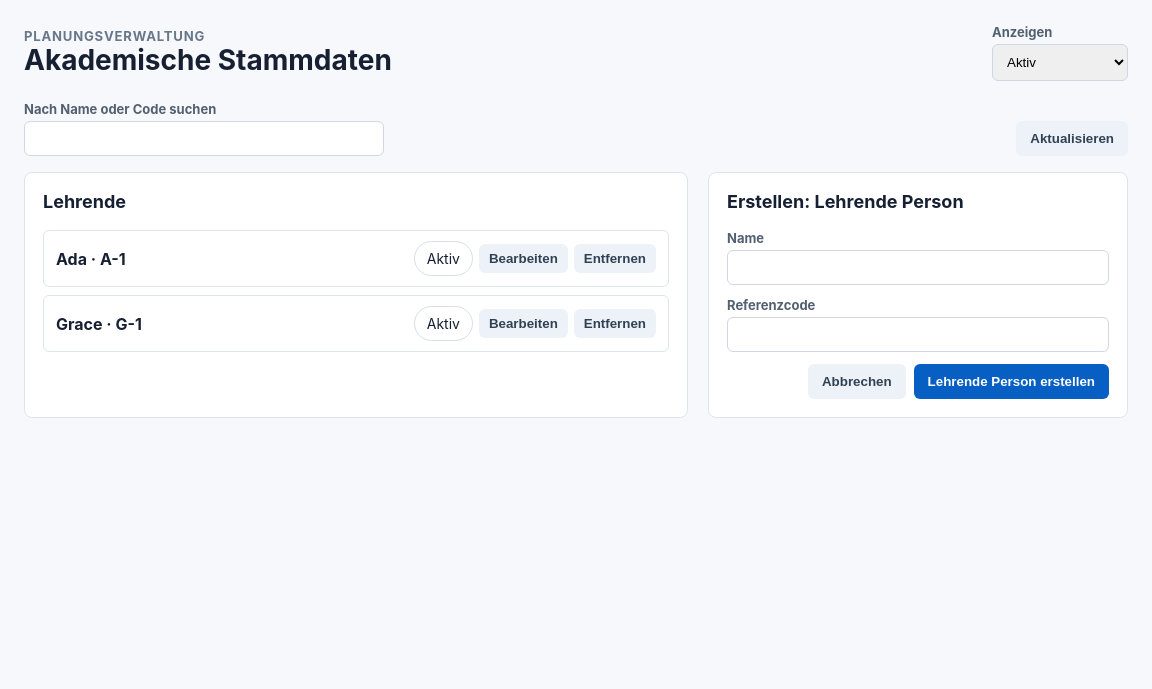
Test: AcademicDataPage › ignores an older availability response after returning to the same resource
The image size is (1152, 689).
Click the button "Bearbeiten" in the row of "Ada".
click(523, 258)  # box top-left (479, 244), bottom-right (568, 273)
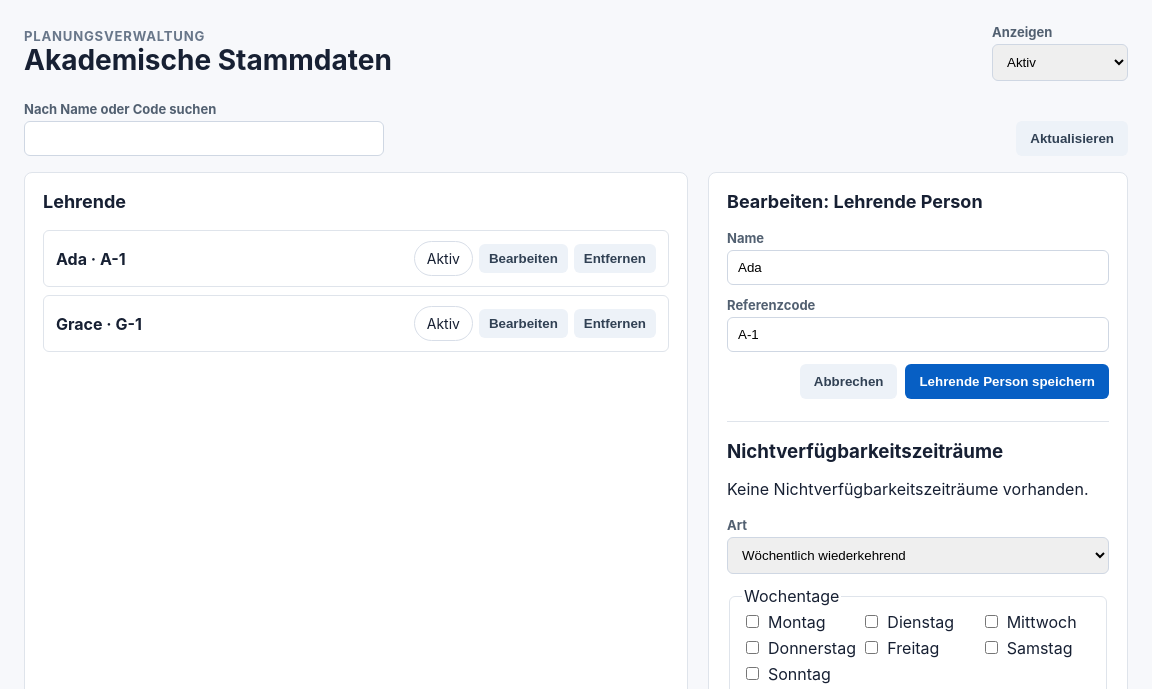
Click the button "Bearbeiten" in the row of "Grace".
click(523, 324)  # box top-left (479, 309), bottom-right (568, 338)
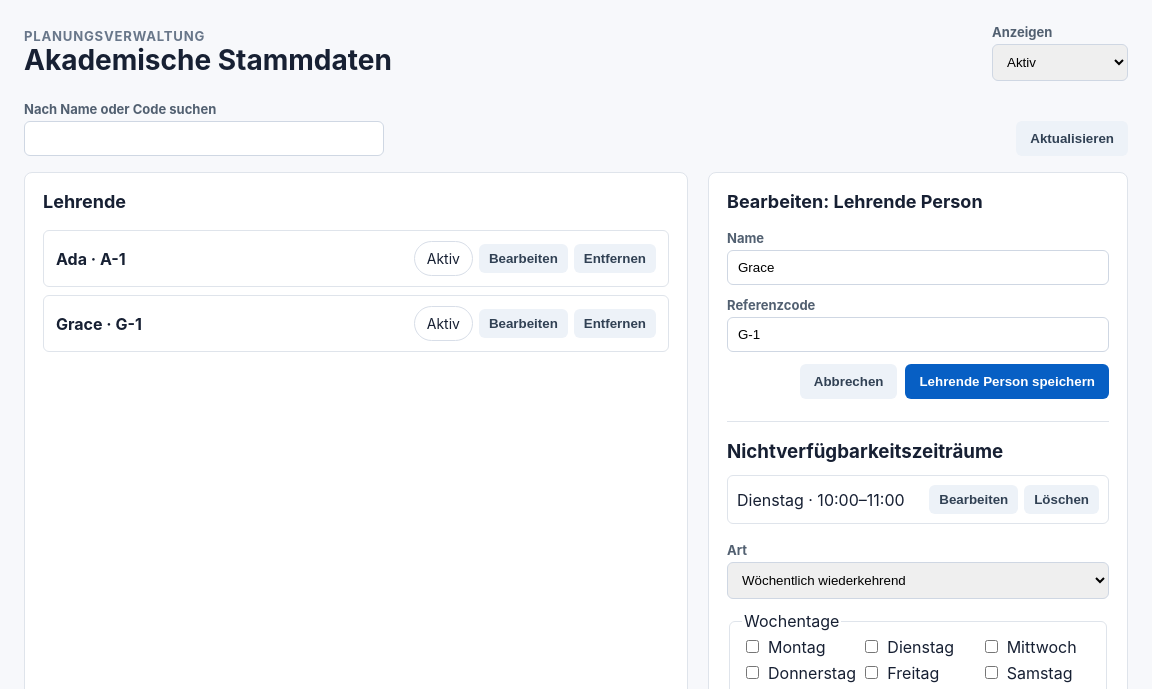
Click the button "Bearbeiten" in the row of "Ada".
click(523, 258)  # box top-left (479, 244), bottom-right (568, 273)
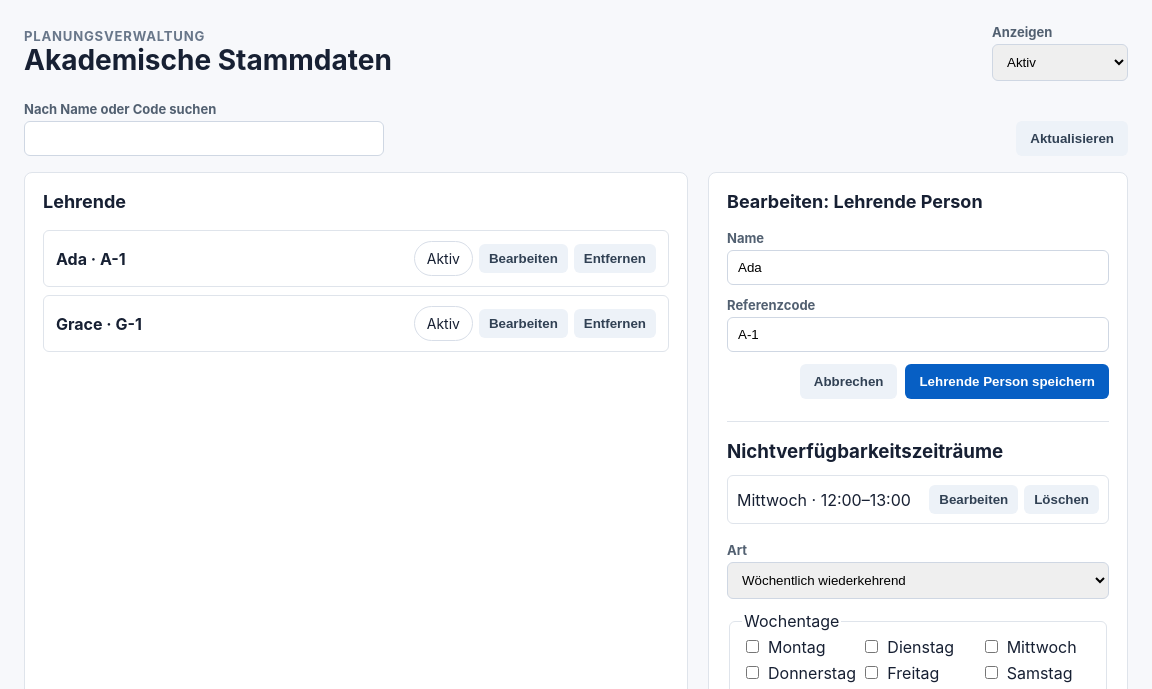
Expected: the text "Mittwoch · 12:00–13:00" is shown, top-left (737, 490), bottom-right (911, 510)
